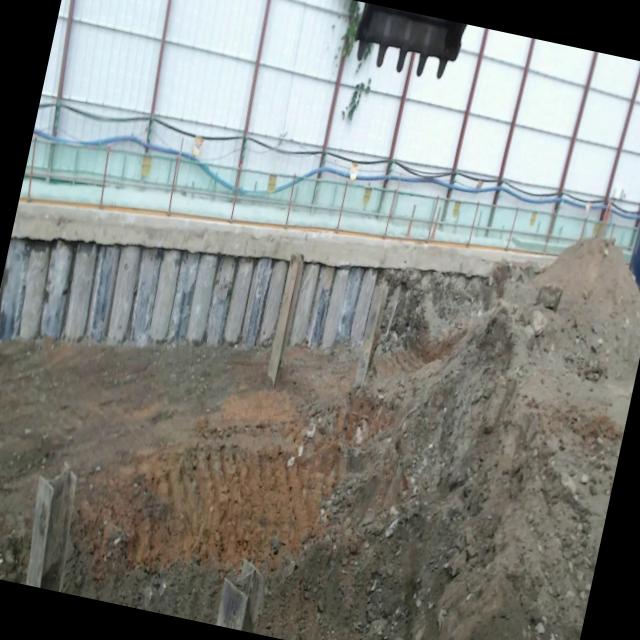cement: (10, 199, 555, 275), (523, 375, 531, 382)
red-sand: (0, 240, 640, 640)
